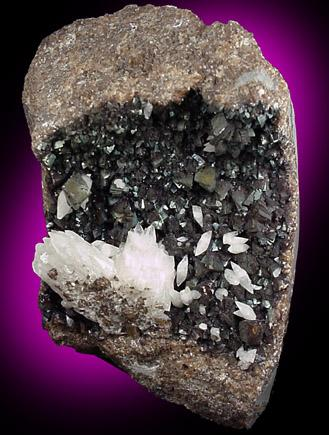calcite: (34, 227, 175, 311), (225, 262, 259, 294), (171, 287, 201, 308), (223, 232, 249, 254), (195, 231, 212, 256), (235, 302, 256, 321), (176, 256, 189, 286), (57, 192, 71, 219), (238, 350, 256, 368), (194, 206, 204, 228), (215, 288, 229, 300)
